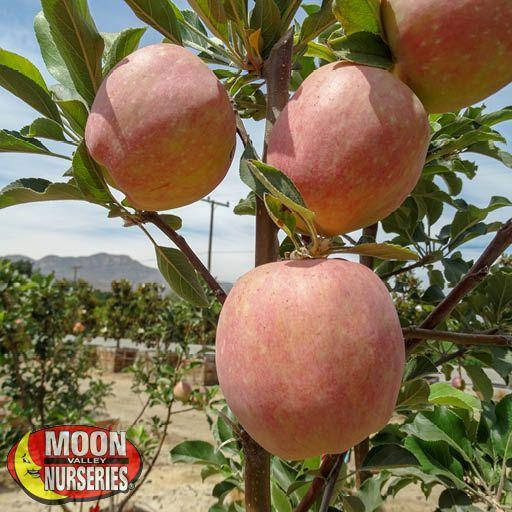apple: (215, 257, 408, 461), (266, 56, 429, 238), (88, 44, 231, 212), (384, 1, 511, 112)
